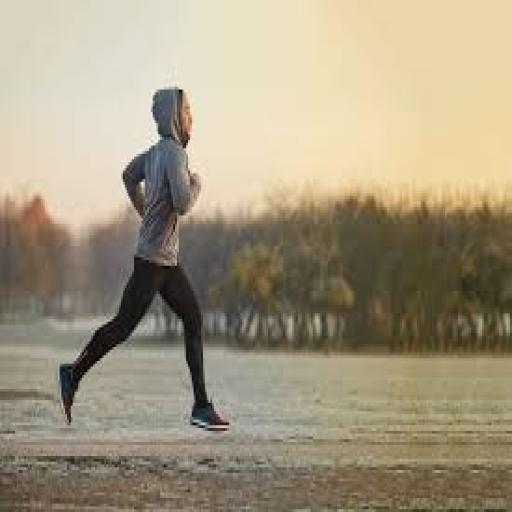running: (56, 81, 233, 437)
